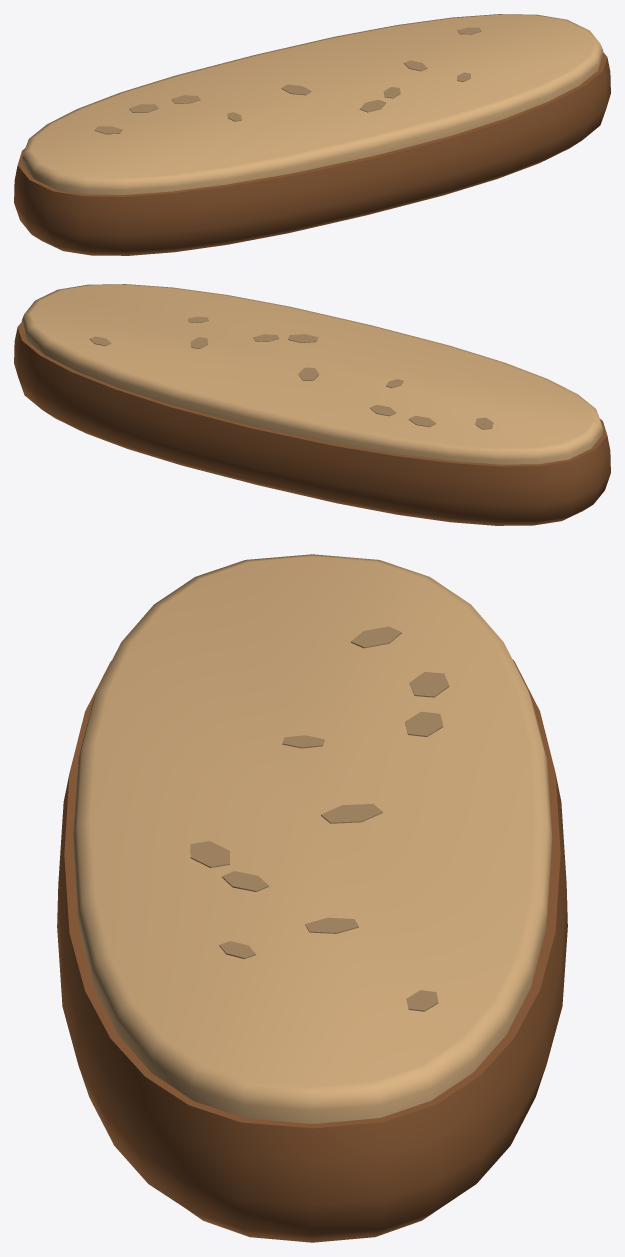
Rendered from Food_WheatSub_Bottom.fbx.
The picture shows the model from 3 angles, top to bottom: view 1: azimuth 30°, elevation 25°; view 2: azimuth 150°, elevation 25°; view 3: azimuth 270°, elevation 25°; orthographic projection. The views are drawn at different scales.
Visible parts, largest first — view 1: Crumb, Crust, Pores; view 2: Crumb, Crust, Pores; view 3: Crumb, Crust, Pores.
Part boxes in pixels (x1,y1,x2,y2): Crumb: (21, 14, 603, 194); Crust: (14, 52, 610, 255); Pores: (94, 27, 481, 134); Crumb: (21, 284, 603, 464); Crust: (14, 322, 610, 525); Pores: (89, 316, 493, 429); Crumb: (72, 554, 552, 1123); Crust: (57, 659, 567, 1242); Pores: (190, 626, 449, 1011).
Bounding box in the file's own units: 220 × 30.49 × 85.
